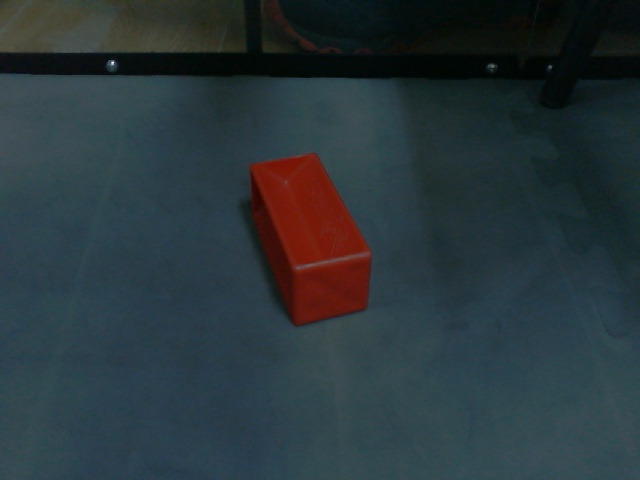RedSample: (247, 149, 375, 327)
